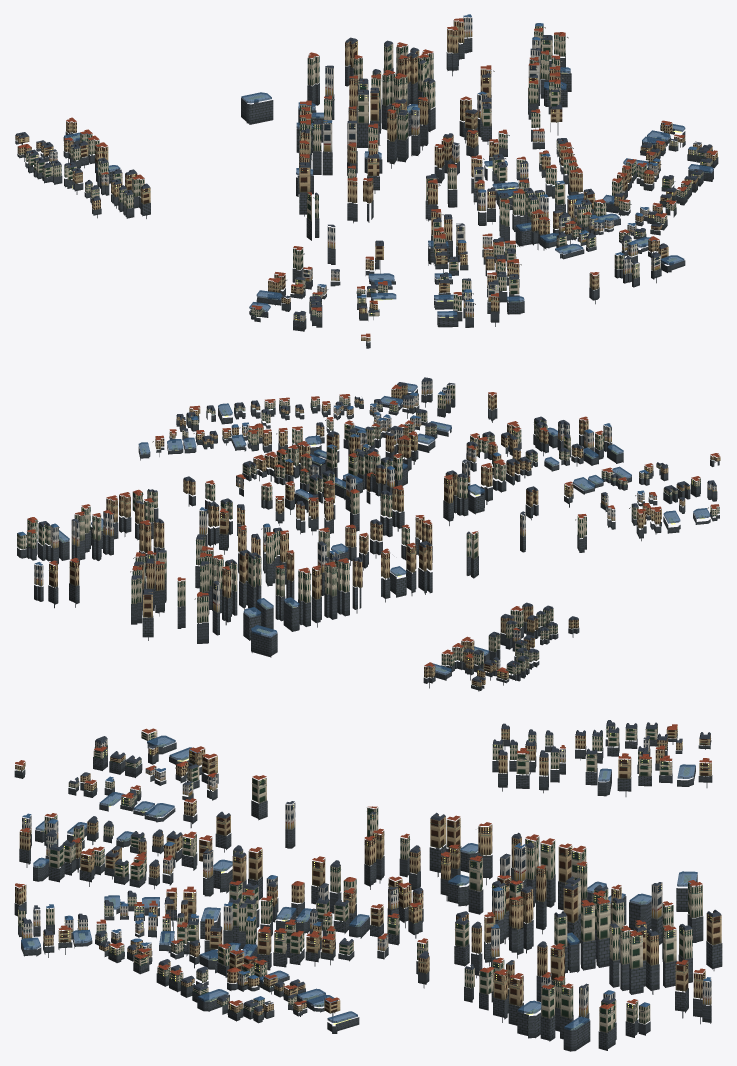
Rendered from osm_buildings_T_E01_N01_Q3.glb.
3 renders of one model, top to bottom at view 1: azimuth 30°, elevation 25°; view 2: azimuth 150°, elevation 25°; view 3: azimuth 270°, elevation 25°, orthographic. The views are drawn at different scales.
Parts seen in each view (by area): view 1: OSM_PBR_T_E01_N01_Q3_foundation, OSM_PBR_T_E01_N01_Q3_wall_cream_stucco, OSM_PBR_T_E01_N01_Q3_wall_french_ochre, OSM_PBR_T_E01_N01_Q3_roof_terracotta, OSM_PBR_T_E01_N01_Q3_greenhouse_blend, OSM_PBR_T_E01_N01_Q3_roof_mansard_slate, OSM_PBR_T_E01_N01_Q3_wall_warm_white, OSM_PBR_T_E01_N01_Q3_wall_pastel_sand, OSM_PBR_T_E01_N01_Q3_roof_mansard_deck, OSM_PBR_T_E01_N01_Q3_trim_cornice, OSM_PBR_T_E01_N01_Q3_roof_mint_metal, OSM_PBR_T_E01_N01_Q3_roof_alpine_blue (+1 smaller); view 2: OSM_PBR_T_E01_N01_Q3_foundation, OSM_PBR_T_E01_N01_Q3_wall_cream_stucco, OSM_PBR_T_E01_N01_Q3_wall_french_ochre, OSM_PBR_T_E01_N01_Q3_greenhouse_blend, OSM_PBR_T_E01_N01_Q3_roof_terracotta, OSM_PBR_T_E01_N01_Q3_roof_mansard_slate, OSM_PBR_T_E01_N01_Q3_wall_warm_white, OSM_PBR_T_E01_N01_Q3_roof_mansard_deck, OSM_PBR_T_E01_N01_Q3_wall_pastel_sand, OSM_PBR_T_E01_N01_Q3_roof_mint_metal, OSM_PBR_T_E01_N01_Q3_roof_alpine_blue, OSM_PBR_T_E01_N01_Q3_trim_cornice (+1 smaller); view 3: OSM_PBR_T_E01_N01_Q3_foundation, OSM_PBR_T_E01_N01_Q3_wall_cream_stucco, OSM_PBR_T_E01_N01_Q3_wall_french_ochre, OSM_PBR_T_E01_N01_Q3_greenhouse_blend, OSM_PBR_T_E01_N01_Q3_roof_terracotta, OSM_PBR_T_E01_N01_Q3_roof_mansard_slate, OSM_PBR_T_E01_N01_Q3_wall_warm_white, OSM_PBR_T_E01_N01_Q3_wall_pastel_sand, OSM_PBR_T_E01_N01_Q3_roof_mansard_deck, OSM_PBR_T_E01_N01_Q3_roof_mint_metal, OSM_PBR_T_E01_N01_Q3_balcony_railing, OSM_PBR_T_E01_N01_Q3_trim_cornice (+2 smaller).
Boxes of the visible parts, x1,y1,x2,y2 form: OSM_PBR_T_E01_N01_Q3_foundation: [15, 37, 718, 348]; OSM_PBR_T_E01_N01_Q3_wall_cream_stucco: [25, 24, 712, 317]; OSM_PBR_T_E01_N01_Q3_wall_french_ochre: [15, 20, 717, 341]; OSM_PBR_T_E01_N01_Q3_roof_terracotta: [18, 18, 717, 337]; OSM_PBR_T_E01_N01_Q3_greenhouse_blend: [64, 67, 713, 316]; OSM_PBR_T_E01_N01_Q3_roof_mansard_slate: [16, 35, 712, 315]; OSM_PBR_T_E01_N01_Q3_wall_warm_white: [49, 17, 660, 321]; OSM_PBR_T_E01_N01_Q3_wall_pastel_sand: [302, 39, 649, 298]; OSM_PBR_T_E01_N01_Q3_roof_mansard_deck: [17, 35, 713, 316]; OSM_PBR_T_E01_N01_Q3_trim_cornice: [15, 17, 714, 339]; OSM_PBR_T_E01_N01_Q3_roof_mint_metal: [16, 26, 715, 341]; OSM_PBR_T_E01_N01_Q3_roof_alpine_blue: [317, 14, 697, 301]; OSM_PBR_T_E01_N01_Q3_foundation: [17, 389, 719, 691]; OSM_PBR_T_E01_N01_Q3_wall_cream_stucco: [17, 385, 719, 675]; OSM_PBR_T_E01_N01_Q3_wall_french_ochre: [49, 385, 720, 687]; OSM_PBR_T_E01_N01_Q3_greenhouse_blend: [59, 383, 710, 675]; OSM_PBR_T_E01_N01_Q3_roof_terracotta: [27, 384, 720, 672]; OSM_PBR_T_E01_N01_Q3_roof_mansard_slate: [38, 378, 716, 682]; OSM_PBR_T_E01_N01_Q3_wall_warm_white: [34, 380, 716, 669]; OSM_PBR_T_E01_N01_Q3_roof_mansard_deck: [40, 377, 715, 680]; OSM_PBR_T_E01_N01_Q3_wall_pastel_sand: [50, 407, 656, 572]; OSM_PBR_T_E01_N01_Q3_roof_mint_metal: [28, 385, 718, 686]; OSM_PBR_T_E01_N01_Q3_roof_alpine_blue: [17, 391, 648, 565]; OSM_PBR_T_E01_N01_Q3_trim_cornice: [24, 384, 719, 671]; OSM_PBR_T_E01_N01_Q3_foundation: [14, 734, 722, 1051]; OSM_PBR_T_E01_N01_Q3_wall_cream_stucco: [18, 724, 702, 1033]; OSM_PBR_T_E01_N01_Q3_wall_french_ochre: [15, 727, 721, 1015]; OSM_PBR_T_E01_N01_Q3_greenhouse_blend: [21, 735, 697, 1030]; OSM_PBR_T_E01_N01_Q3_roof_terracotta: [15, 724, 711, 1009]; OSM_PBR_T_E01_N01_Q3_roof_mansard_slate: [18, 720, 721, 1011]; OSM_PBR_T_E01_N01_Q3_wall_warm_white: [21, 739, 711, 1005]; OSM_PBR_T_E01_N01_Q3_wall_pastel_sand: [120, 766, 615, 1016]; OSM_PBR_T_E01_N01_Q3_roof_mansard_deck: [23, 720, 719, 1029]; OSM_PBR_T_E01_N01_Q3_roof_mint_metal: [15, 730, 720, 1016]; OSM_PBR_T_E01_N01_Q3_balcony_railing: [16, 729, 711, 1014]; OSM_PBR_T_E01_N01_Q3_trim_cornice: [16, 726, 720, 1013].
Size of the model in its own units: 1003 by 119 by 1002.
18 materials, 16 textured.
